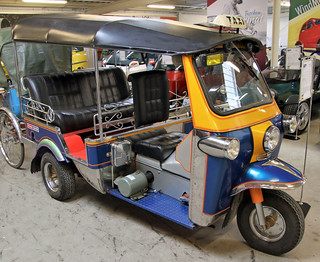threewheel: (11, 13, 306, 256)
